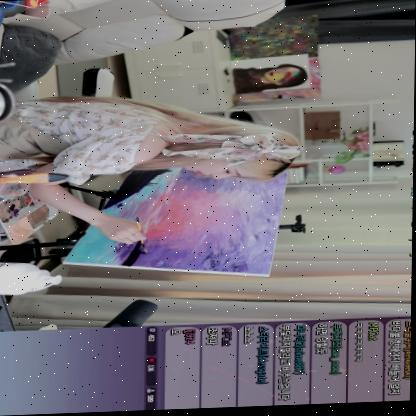streamer: (0, 88, 307, 249)
